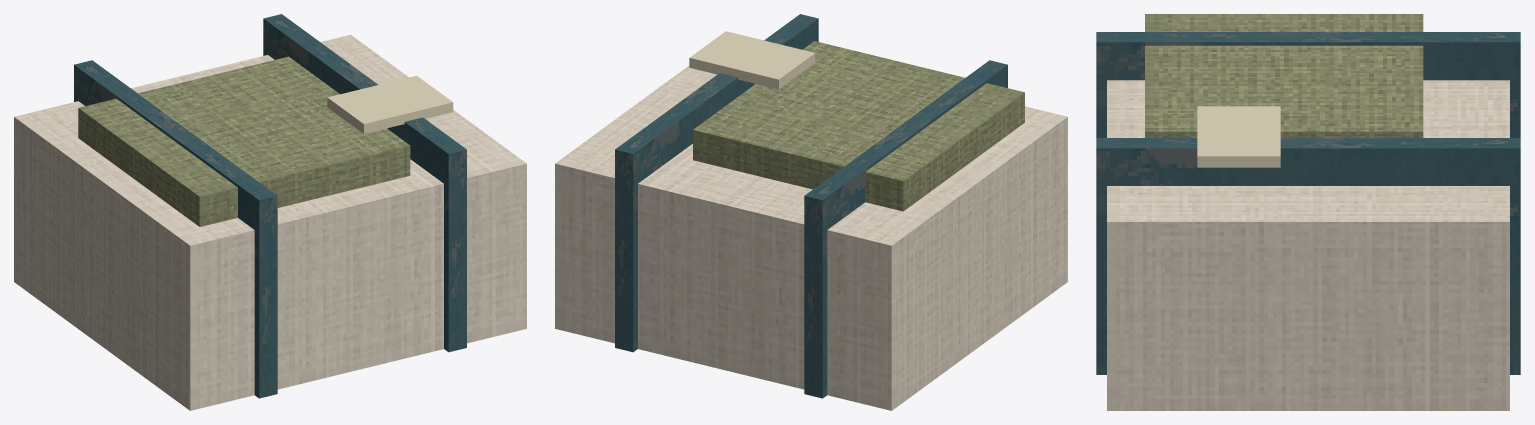
File: r1_dropped_bundle.glb
3 renders of one model, left to right at view 1: azimuth 30°, elevation 25°; view 2: azimuth 150°, elevation 25°; view 3: azimuth 270°, elevation 25°, orthographic. The views are drawn at different scales.
Parts seen in each view (by area): view 1: root; view 2: root; view 3: root.
Boxes of the visible parts, x1,y1,x2,y2 form: root: (14,14,526,410); root: (555,14,1067,410); root: (1096,14,1520,410).
Bounding box in the file's own units: 0.64 × 0.374 × 0.61.
1 material, 1 textured.
